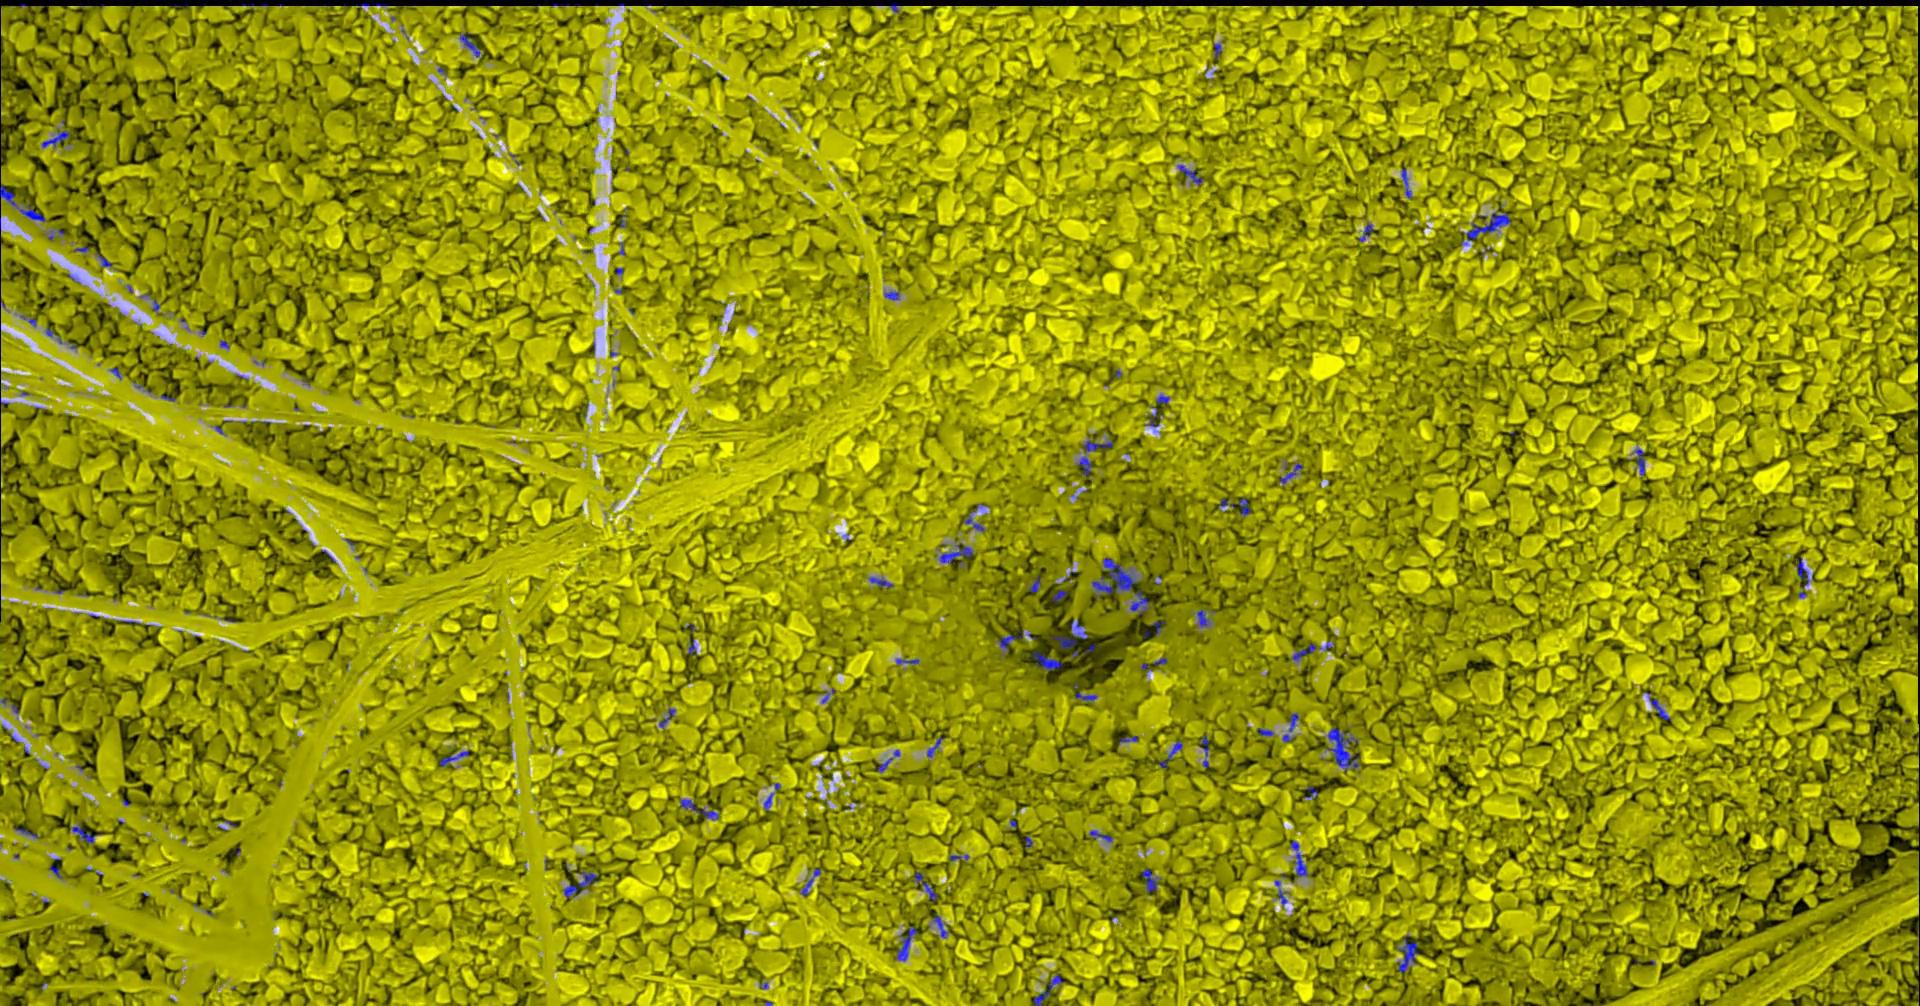ant: (1, 183, 50, 221), (1093, 558, 1139, 597), (1462, 212, 1512, 244), (1327, 727, 1361, 768), (1051, 620, 1090, 648), (565, 871, 601, 897), (1035, 973, 1063, 1005), (1293, 640, 1336, 661), (681, 799, 721, 819), (1644, 691, 1672, 720), (1398, 935, 1420, 972), (897, 925, 918, 960), (1291, 840, 1310, 879), (1797, 556, 1815, 597), (916, 871, 938, 901), (941, 542, 975, 561), (1001, 633, 1037, 649), (1178, 164, 1205, 185), (1032, 652, 1064, 669), (43, 130, 71, 147), (461, 32, 481, 56), (441, 749, 470, 766), (1084, 436, 1115, 451), (1281, 462, 1304, 483), (1284, 713, 1300, 741), (1131, 589, 1150, 614), (1143, 868, 1162, 890), (72, 826, 97, 843), (935, 912, 951, 937), (1076, 683, 1098, 701), (928, 735, 946, 757), (1633, 448, 1646, 475), (1403, 166, 1413, 198), (660, 708, 677, 727), (965, 516, 985, 531), (1203, 734, 1211, 767), (1360, 222, 1375, 241), (1078, 456, 1093, 475), (870, 575, 895, 587), (1168, 741, 1183, 760), (1150, 619, 1167, 635), (1091, 829, 1114, 841), (1239, 497, 1252, 514), (1053, 589, 1070, 602), (1197, 608, 1210, 626), (1031, 575, 1043, 592), (885, 291, 902, 298)
